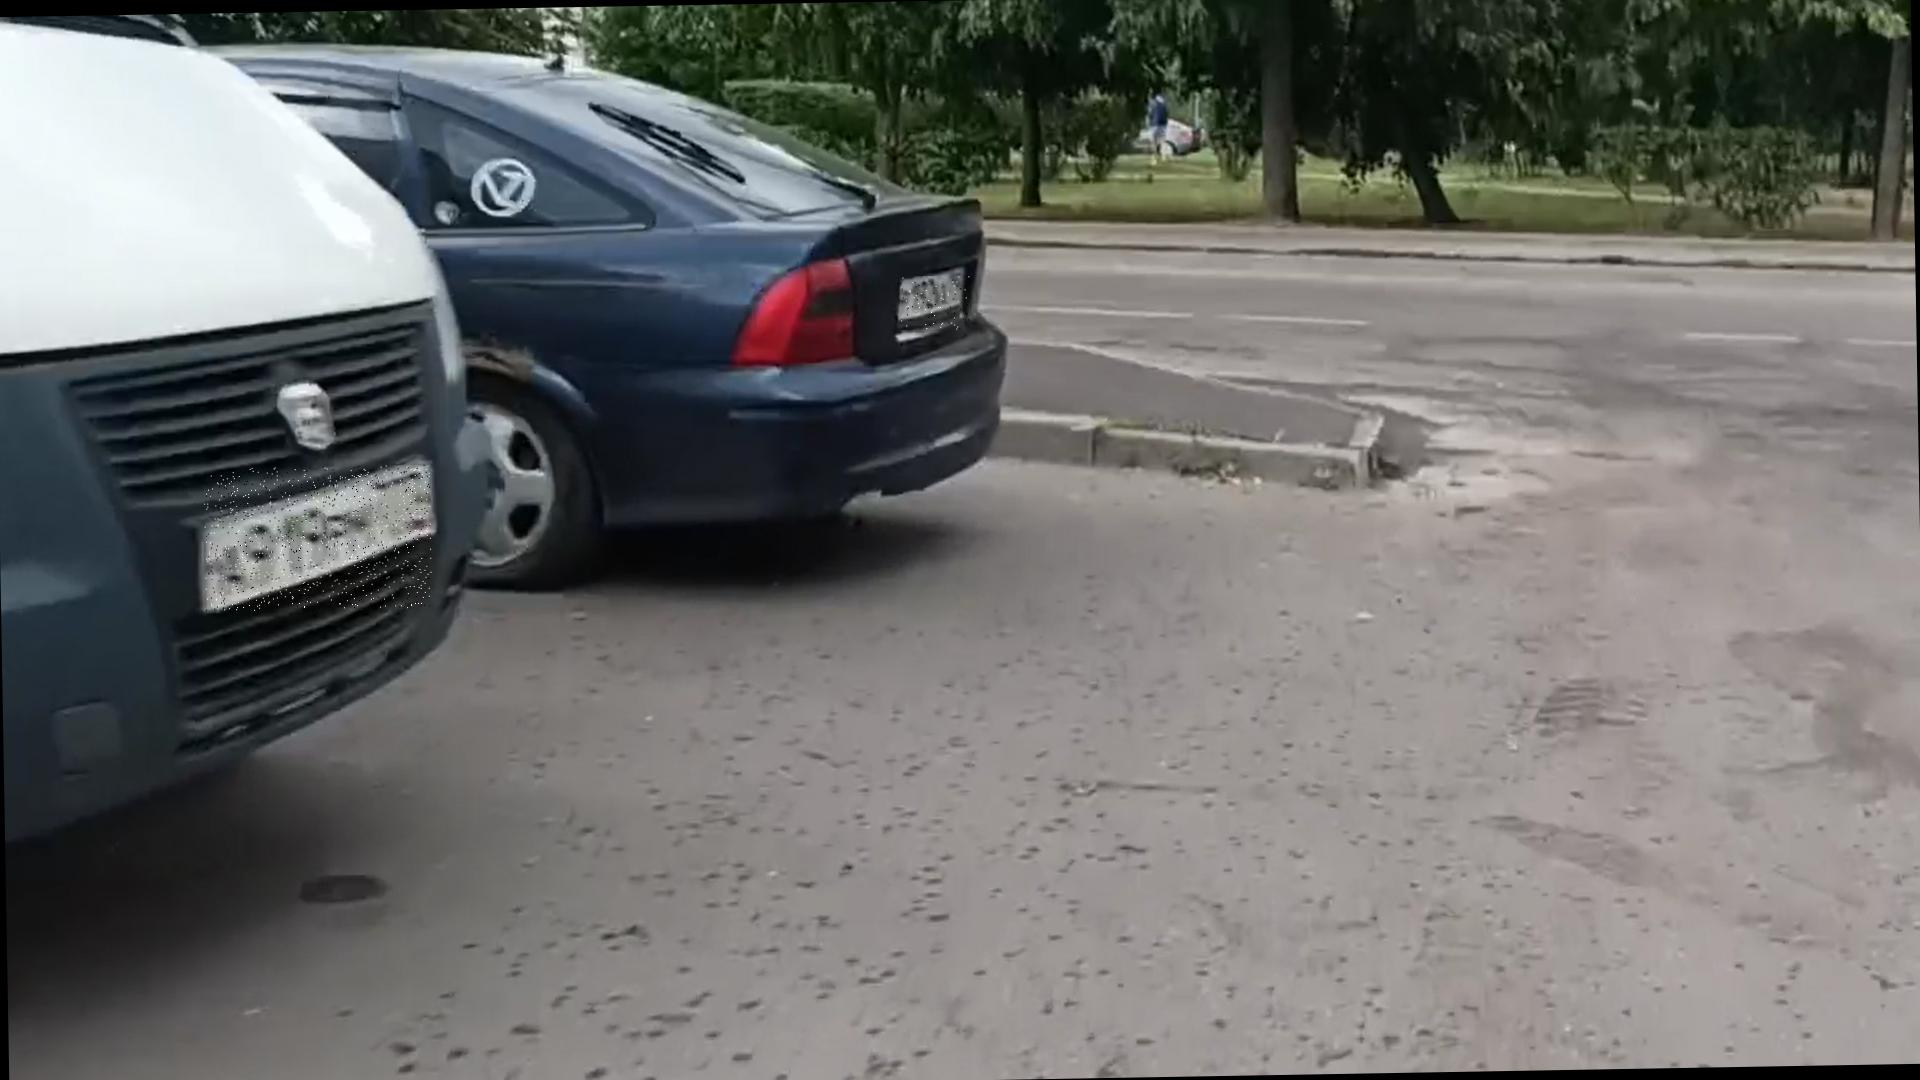plate: (205, 466, 433, 613), (901, 277, 972, 333)
